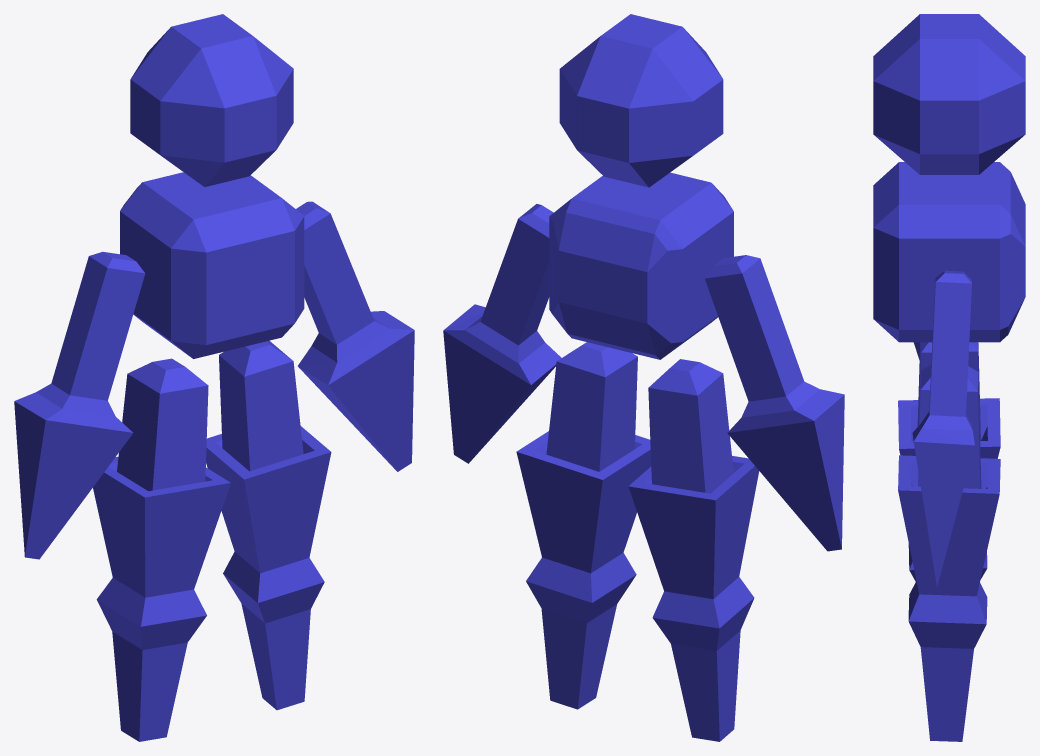
The model's file is player.obj.
3 views of the same model, side by side, from view 1: azimuth 30°, elevation 25°; view 2: azimuth 150°, elevation 25°; view 3: azimuth 270°, elevation 25° (orthographic).
Visible parts, largest first — view 1: 立方体.001; view 2: 立方体.001; view 3: 立方体.001.
Boxes of the visible parts, <box> form: 立方体.001: <box>14,14,414,741</box>; 立方体.001: <box>443,14,844,741</box>; 立方体.001: <box>873,14,1025,741</box>.
Size of the model in its own units: 5.81 by 9.83 by 2.
Materials: 1 (1 with a texture image).
